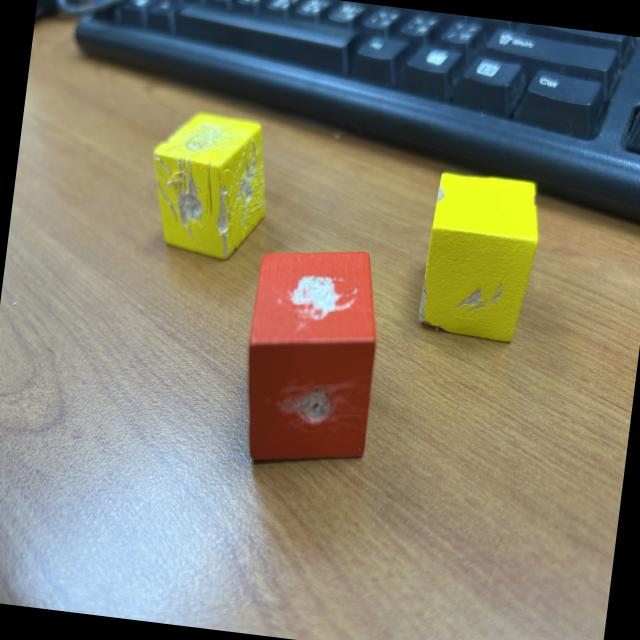broken: (235, 239, 388, 472), (414, 168, 544, 344), (140, 107, 278, 265)
